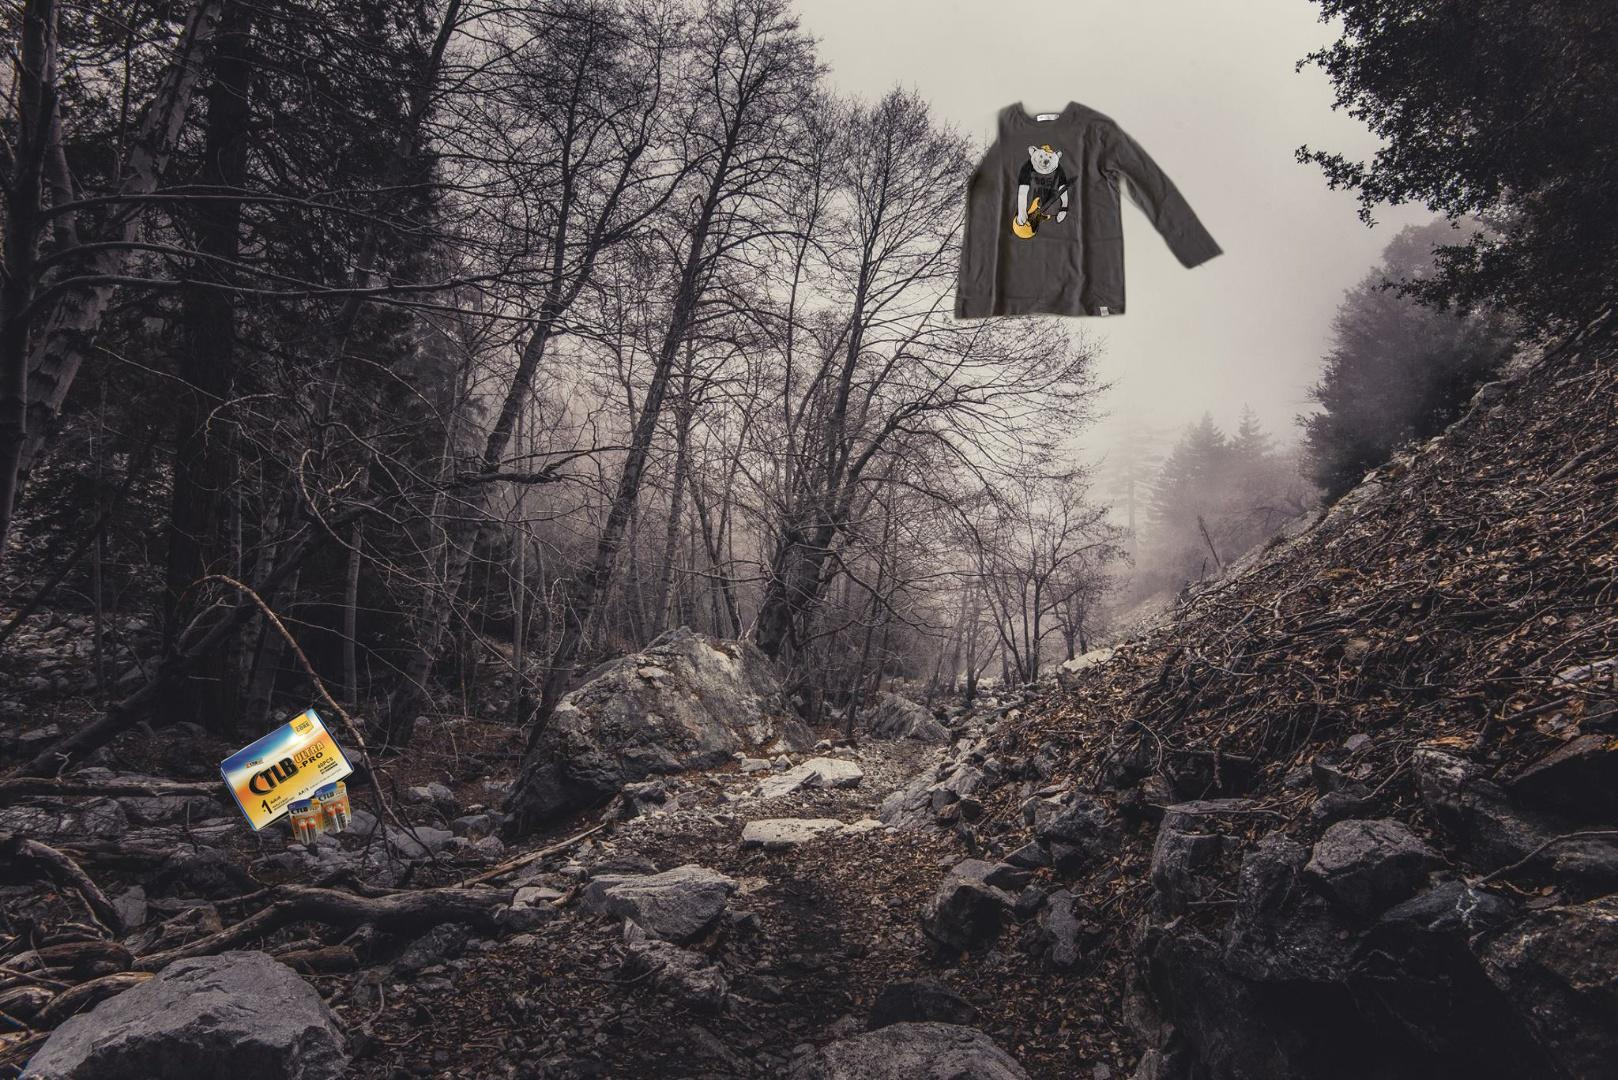battery: (220, 706, 357, 847)
clothes: (865, 96, 1251, 330)
